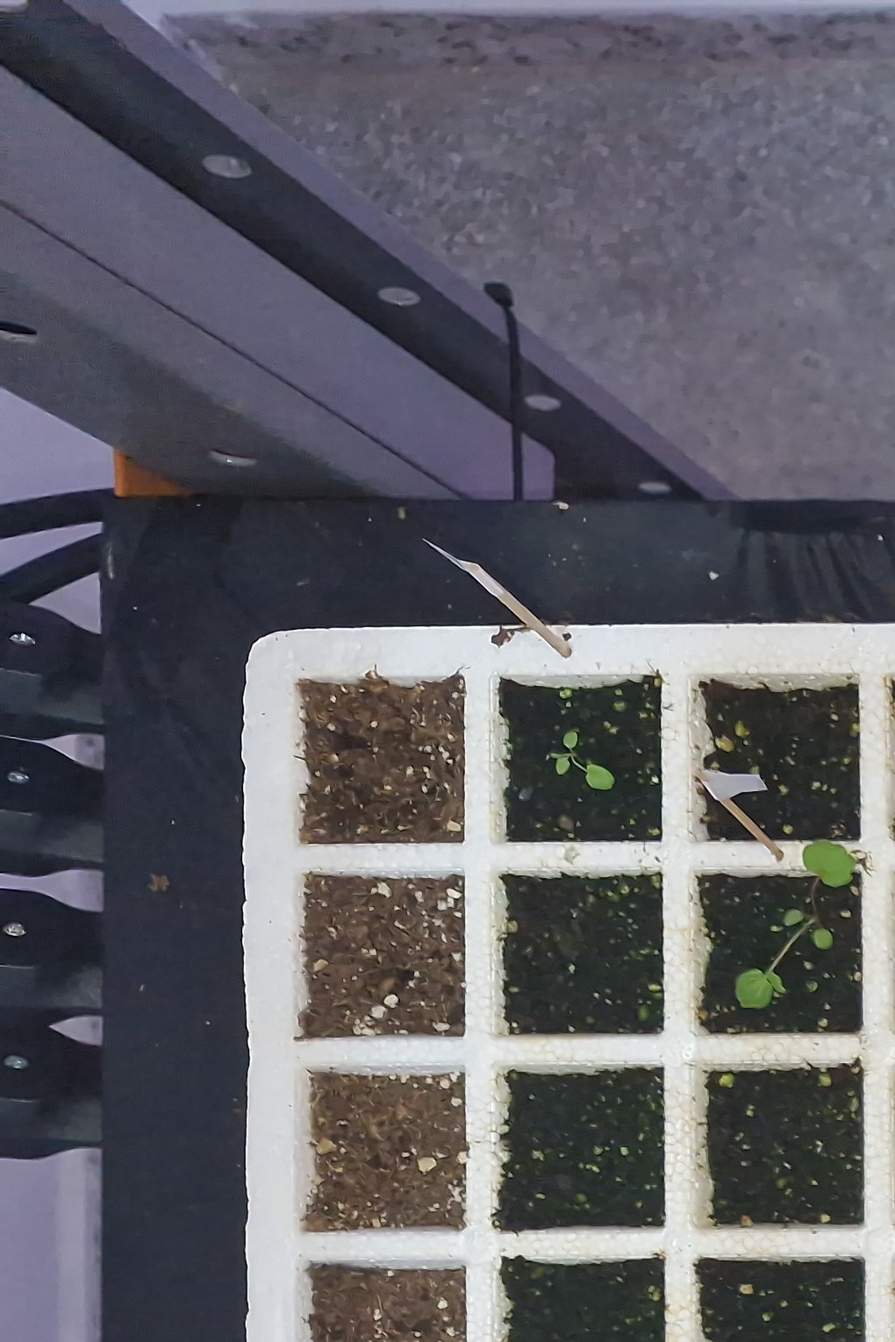Folha: (803, 839, 855, 886), (734, 968, 773, 1009), (586, 764, 615, 789), (814, 928, 834, 950), (784, 909, 804, 925), (563, 732, 578, 749), (556, 758, 570, 774)
Germinacao: (734, 838, 856, 1008), (551, 731, 614, 790)
